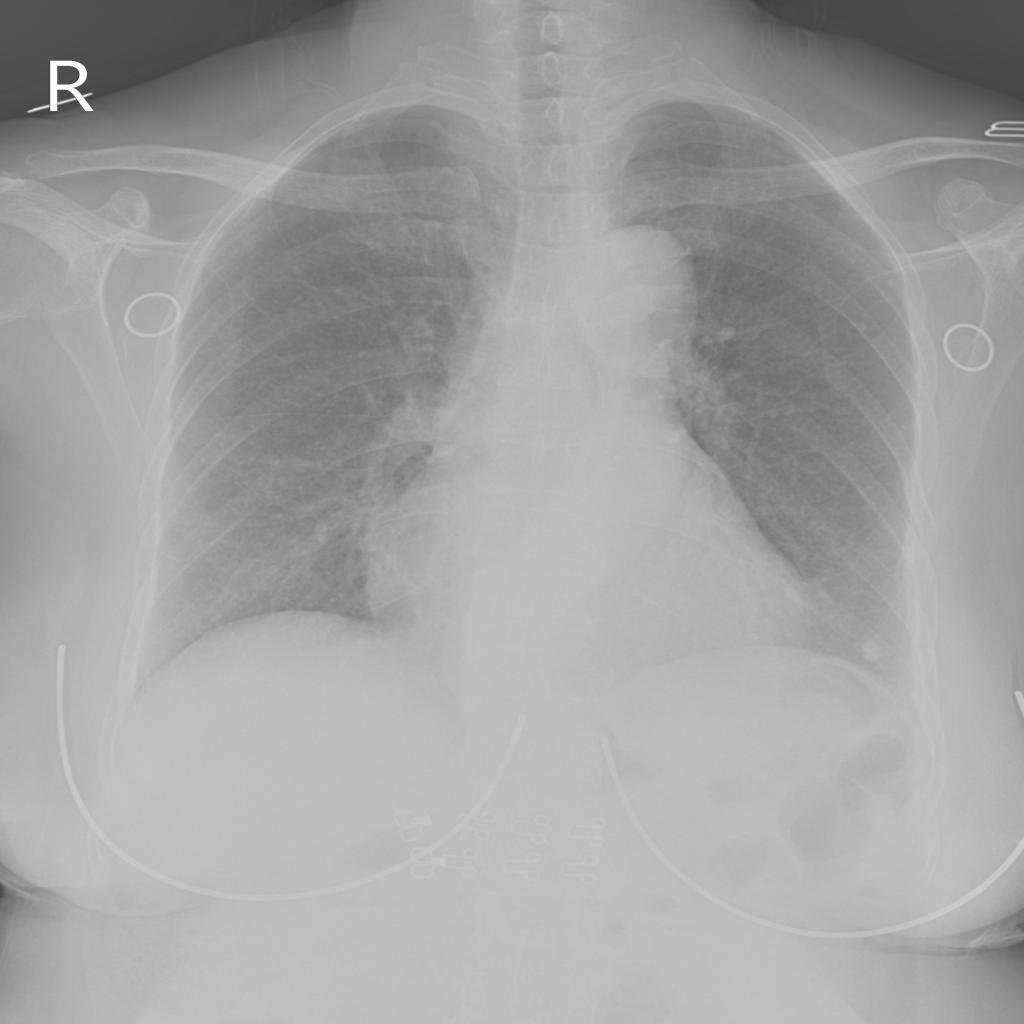Nodule: (861, 640, 878, 661)
